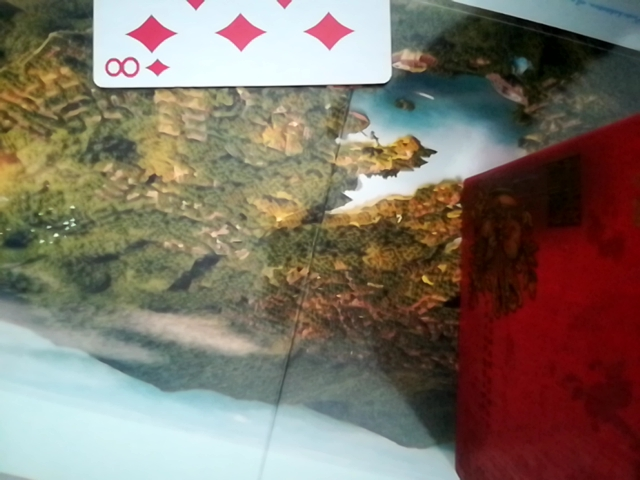fk 8: (79, 0, 397, 91)
